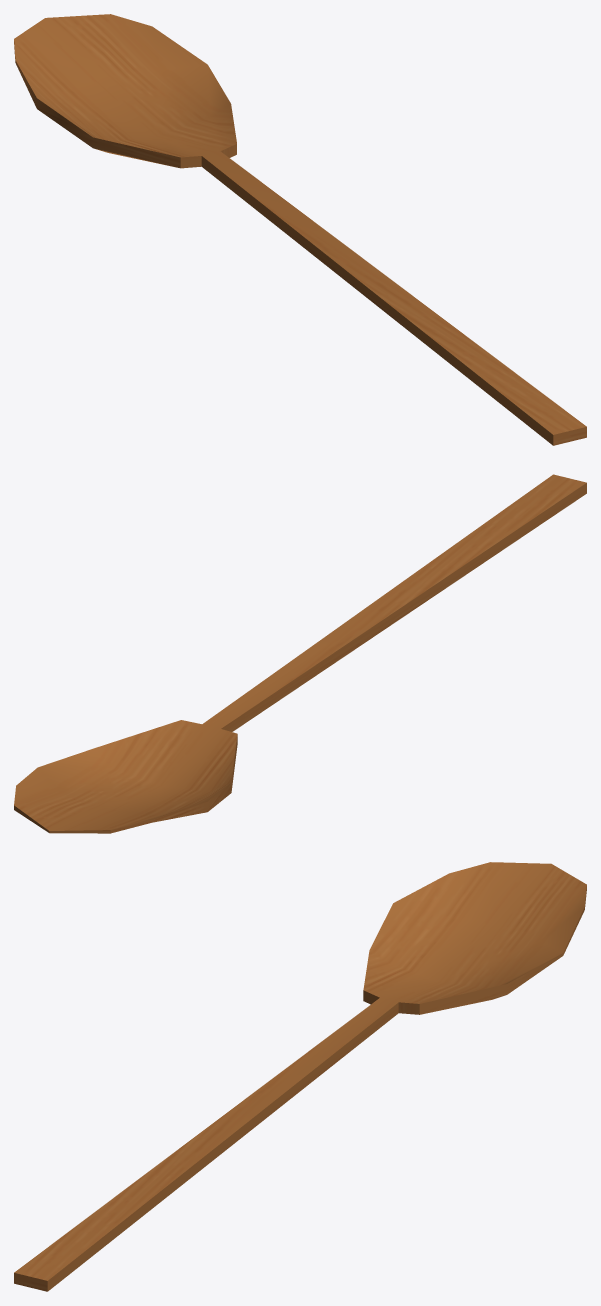
File: Wooden_Spoon.FBX
3 views of the same model, one above another, from view 1: azimuth 30°, elevation 25°; view 2: azimuth 150°, elevation 25°; view 3: azimuth 330°, elevation 25° (orthographic).
Visible parts, largest first — view 1: Spoon; view 2: Spoon; view 3: Spoon.
Part boxes in pixels (left/top/right/bottom): Spoon: left=14, top=14, right=586, bottom=445; Spoon: left=14, top=474, right=586, bottom=833; Spoon: left=14, top=862, right=586, bottom=1291.
Bounding box in the file's own units: 23.95 × 5.86 × 127.
